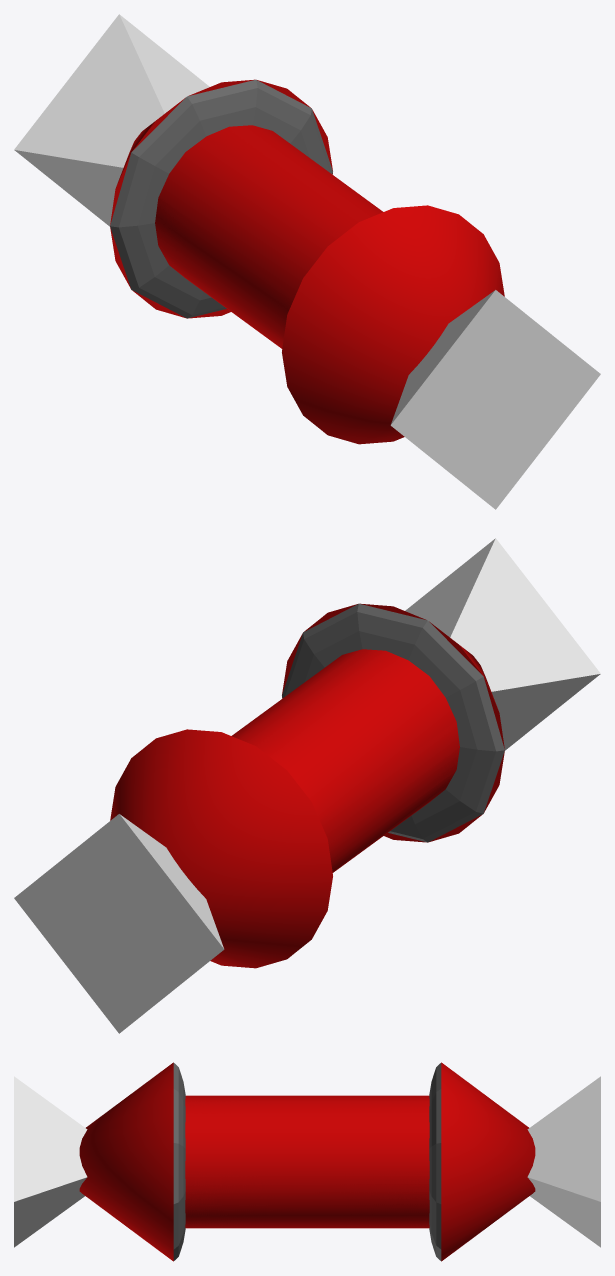
File: Rocket.dae
3 views of the same model, one above another, from view 1: azimuth 30°, elevation 25°; view 2: azimuth 150°, elevation 25°; view 3: azimuth 270°, elevation 25° (orthographic). The views are drawn at different scales.
Parts seen in each view (by area): view 1: polySurface2, transform18, transform13, transform16, transform17; view 2: polySurface2, transform13, transform17, transform18; view 3: transform17, polySurface2, transform18, transform13, transform16.
Part boxes in pixels (x1,y1,x2,y2): polySurface2: [110, 79, 600, 509]; transform18: [282, 205, 504, 444]; transform13: [14, 14, 209, 226]; transform16: [110, 79, 332, 318]; transform17: [155, 125, 382, 348]; polySurface2: [110, 538, 600, 968]; transform13: [14, 814, 224, 1033]; transform17: [232, 649, 459, 872]; transform18: [282, 603, 504, 842]; transform17: [185, 1095, 429, 1228]; polySurface2: [14, 1062, 535, 1261]; transform18: [79, 1062, 173, 1261]; transform13: [527, 1076, 600, 1247]; transform16: [429, 1063, 441, 1260].
Bounding box in the file's own units: 3 × 3 × 8.77.
